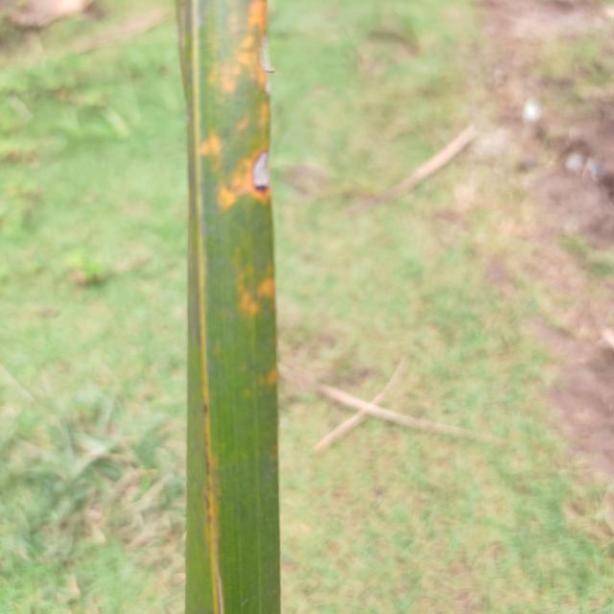Kalium: (176, 0, 280, 614)
